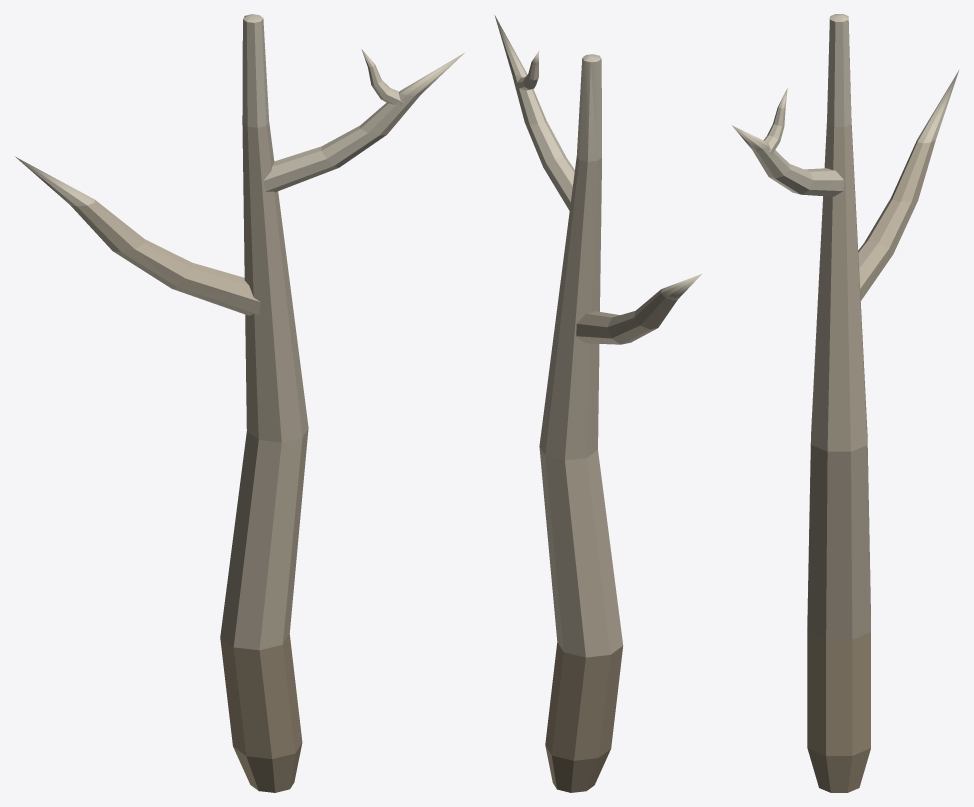
Rendered from cc0-deadtree.glb.
3 renders of one model, left to right at view 1: azimuth 30°, elevation 25°; view 2: azimuth 150°, elevation 25°; view 3: azimuth 270°, elevation 25°, orthographic. The views are drawn at different scales.
Parts seen in each view (by area): view 1: cc0-deadtree; view 2: cc0-deadtree; view 3: cc0-deadtree.
Part boxes in pixels (bbox=[...]): cc0-deadtree: bbox=[15, 14, 464, 792]; cc0-deadtree: bbox=[494, 15, 701, 792]; cc0-deadtree: bbox=[732, 14, 958, 792].
Size of the model in its own units: 1.36 by 3 by 0.8153.
